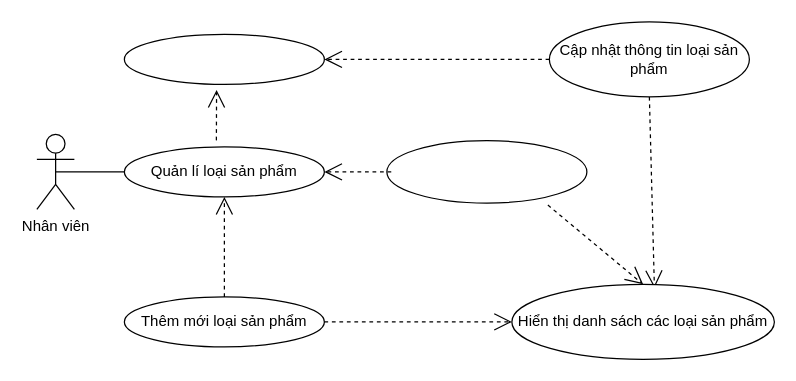
This 796x381 diagram has some shape labels left out. Here are the shapes that lost their labels. From the top down, the centre of each, then its label:
(223,58): Đăng nhập
(486,171): Xóa loại sản phẩm
